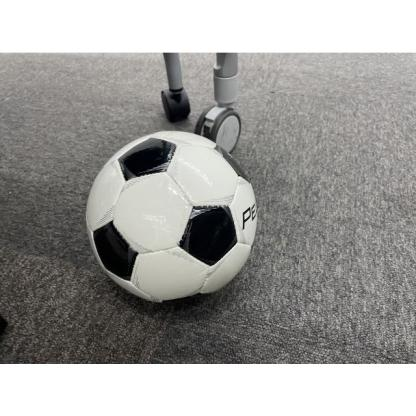ball: (88, 131, 258, 305)
